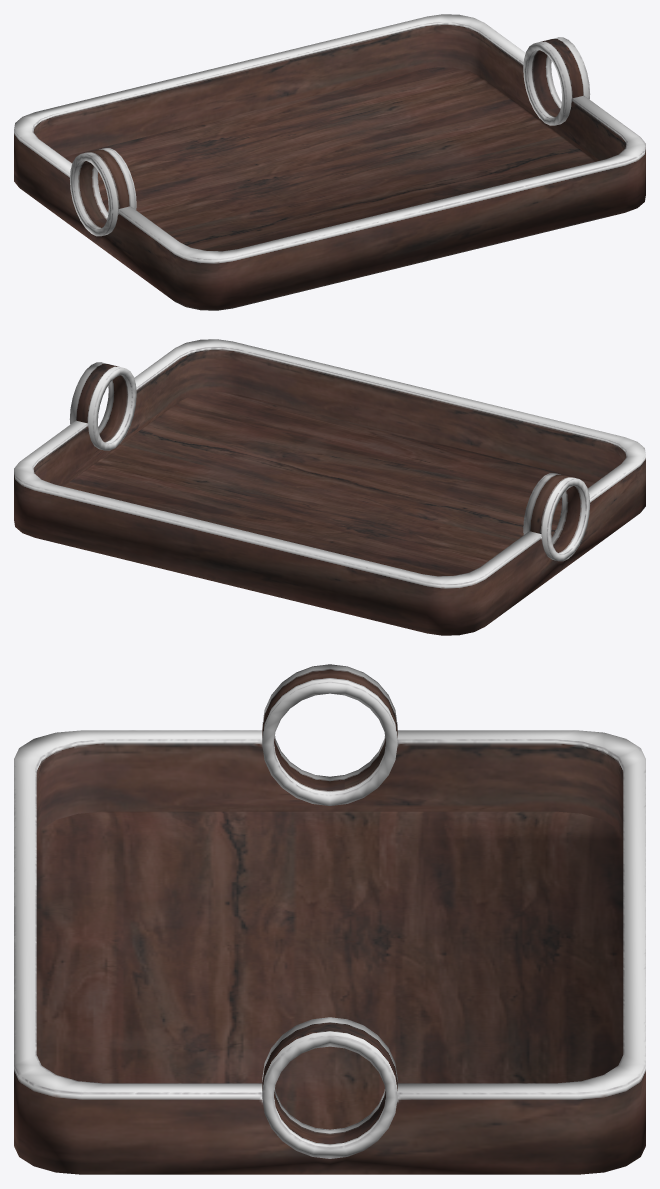
The model's file is tray.fbx.
3 renders of one model, top to bottom at view 1: azimuth 30°, elevation 25°; view 2: azimuth 150°, elevation 25°; view 3: azimuth 270°, elevation 25°, orthographic. The views are drawn at different scales.
Visible parts, largest first — view 1: Tray; view 2: Tray; view 3: Tray.
Part boxes in pixels (x1,y1,x2,y2): Tray: (14, 14, 645, 310); Tray: (14, 339, 645, 635); Tray: (14, 664, 645, 1174).
Size of the model in its own units: 78 by 14 by 56.
1 material, 1 textured.
